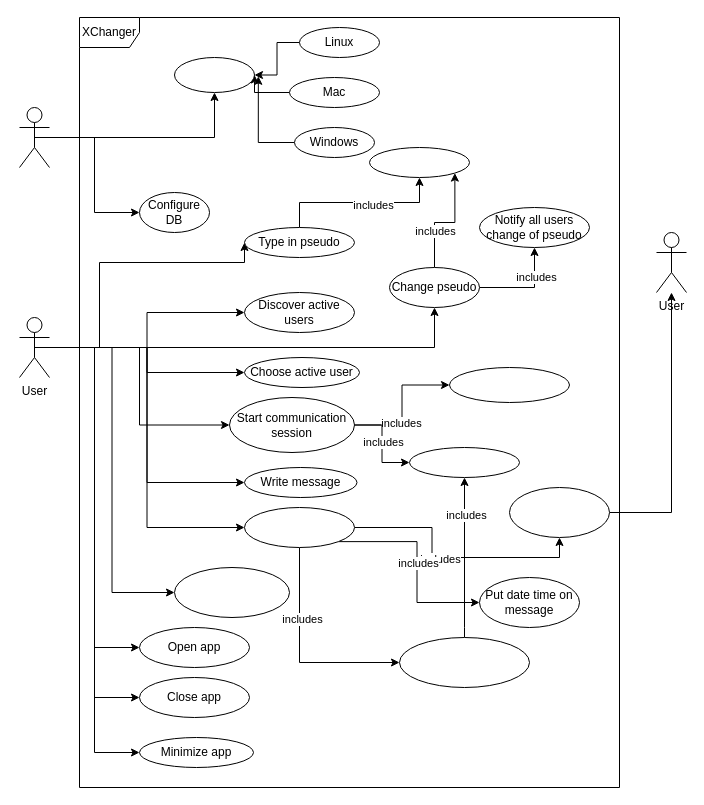
This 704x805 diagram has some shape labels left out. The centre of each missing label's shape, as x and y in pixels:
"Admin" goes at (34,137).
"Close communication session" goes at (232,592).
"Create message packet" goes at (559,512).
"Install System" goes at (214,74).
"Receive message" goes at (509,384).
"Register message on historics" goes at (464,662).
"Send message" goes at (299,527).
"Show historics" goes at (464,462).
"Verify pseudo" goes at (419,162).
